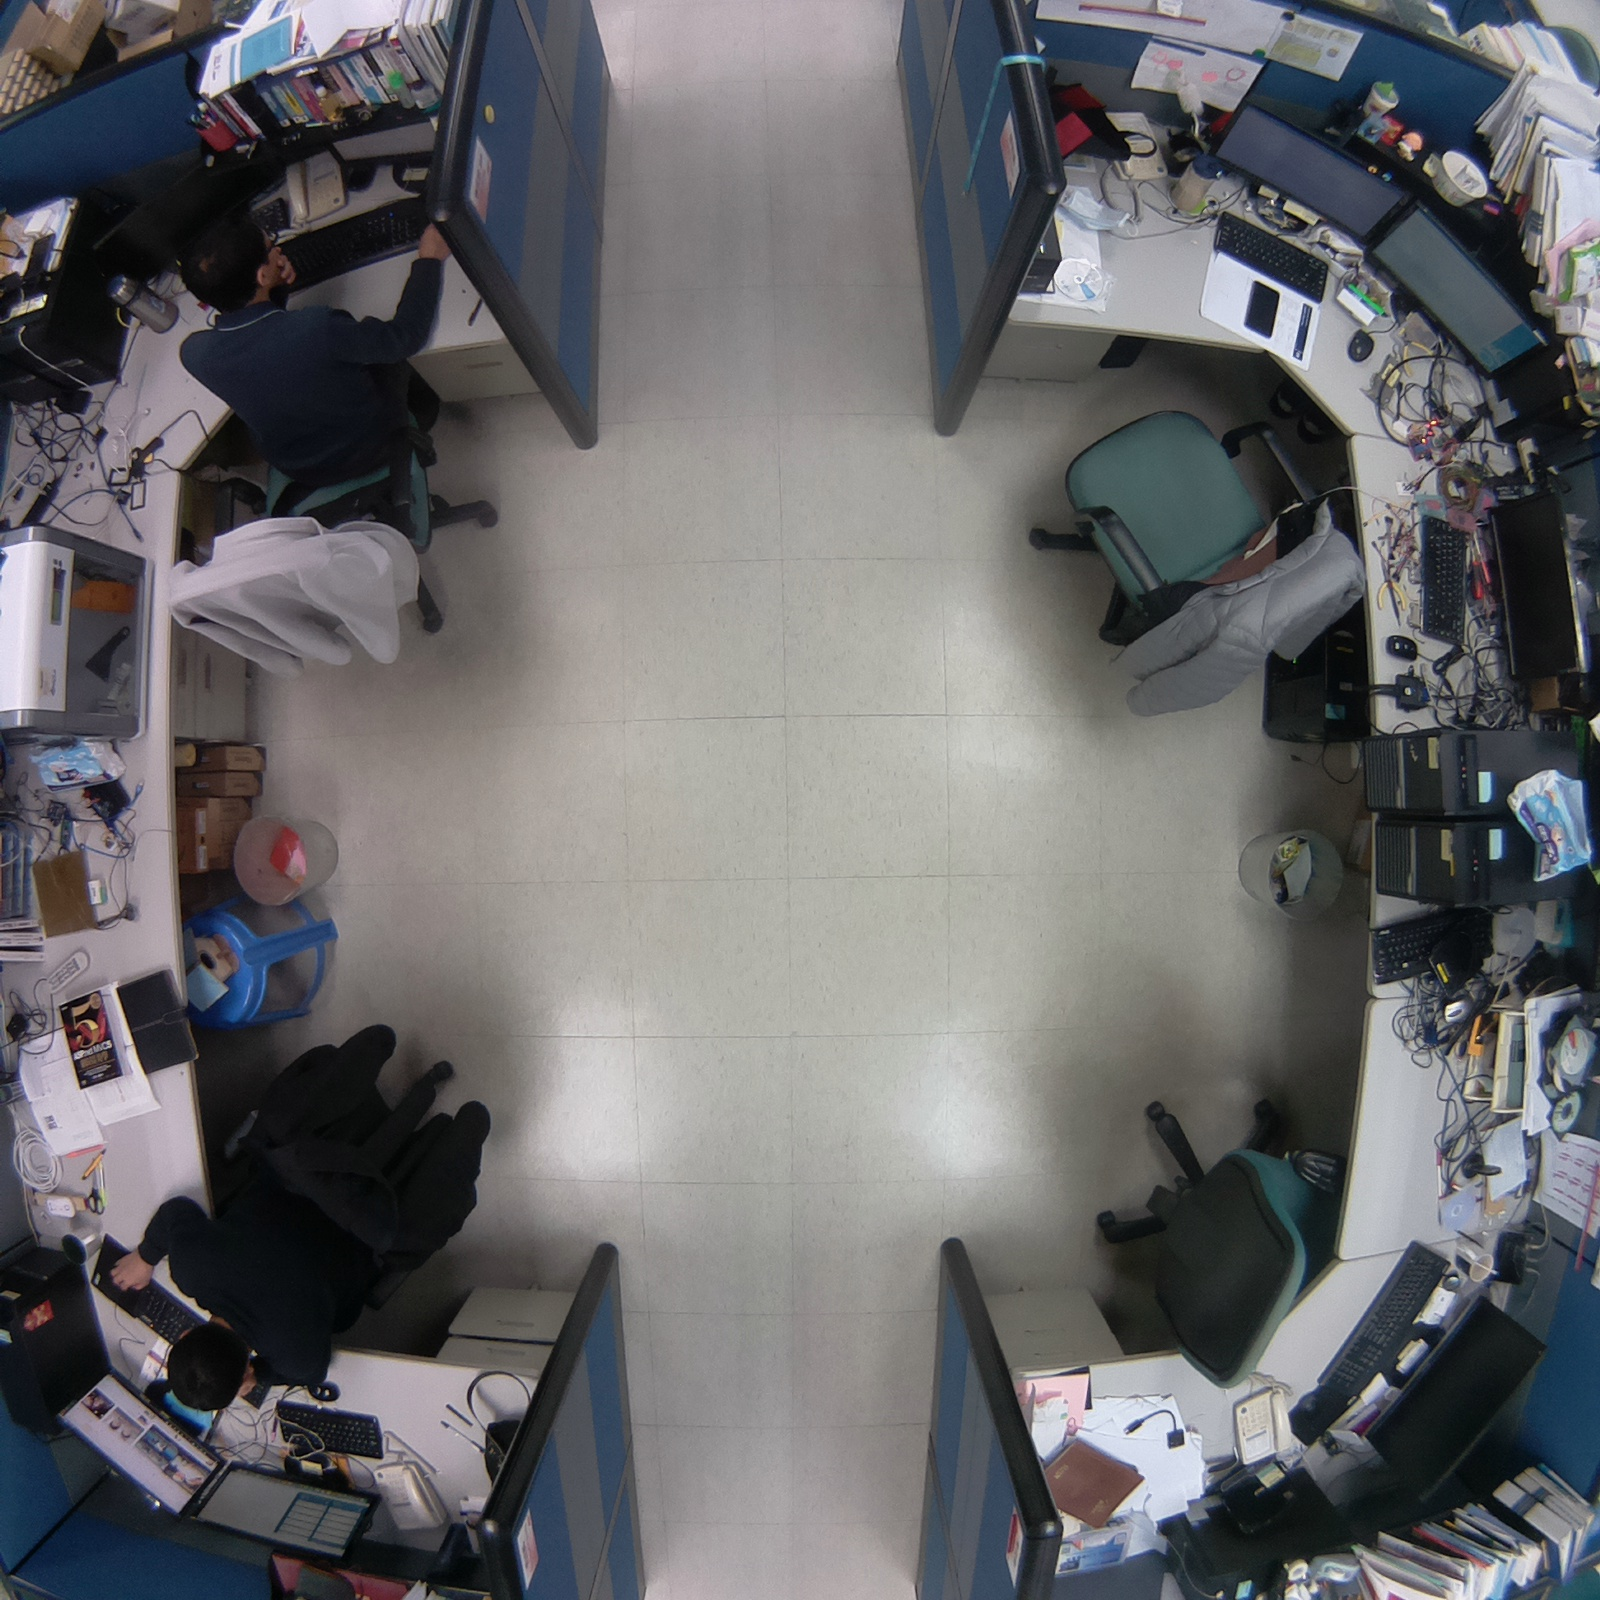chair: (993, 378, 1392, 741), (1067, 1081, 1354, 1415)
sitting: (149, 198, 526, 695), (103, 1011, 519, 1437)
